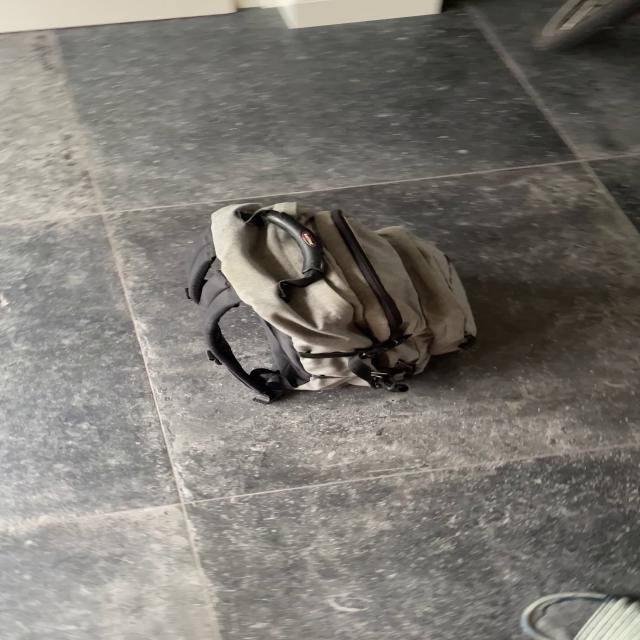backpack: (186, 194, 493, 402)
